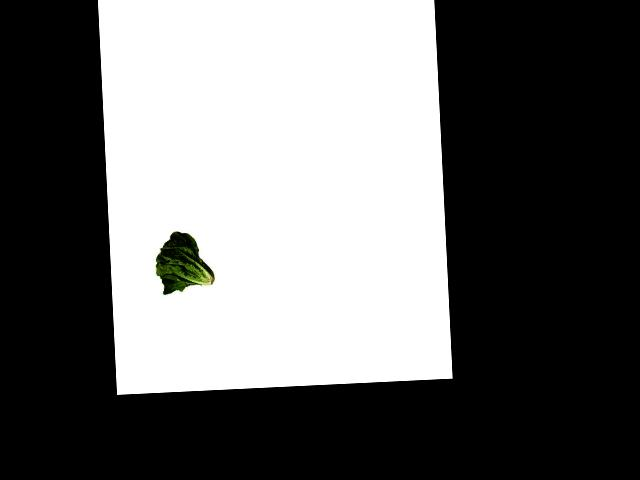lettuce: (152, 228, 218, 296)
